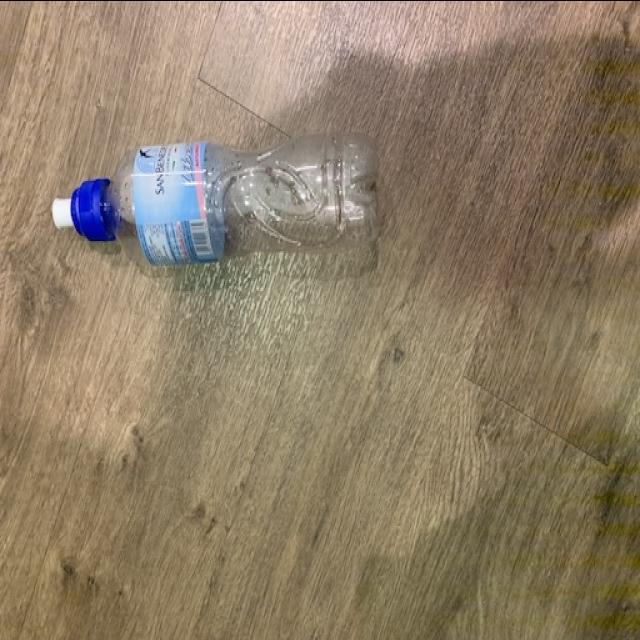PET: (48, 132, 388, 266)
